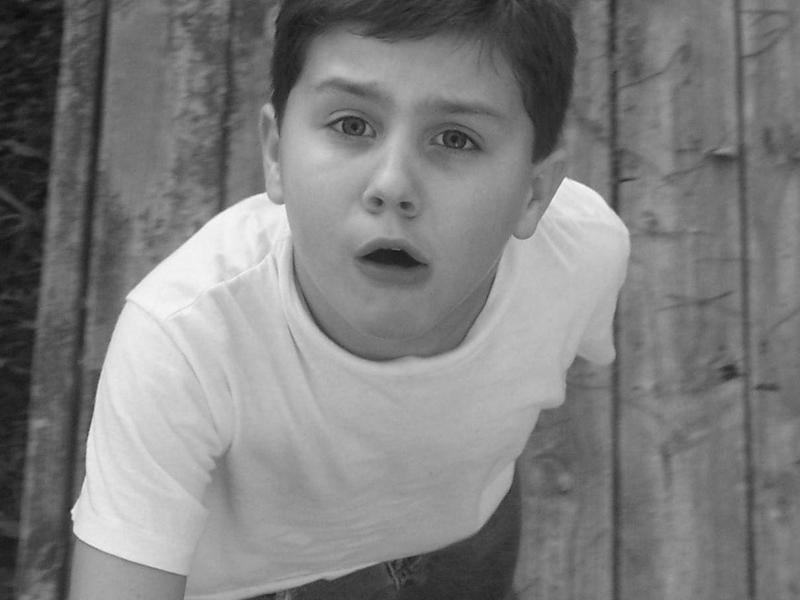person: (69, 1, 635, 600)
